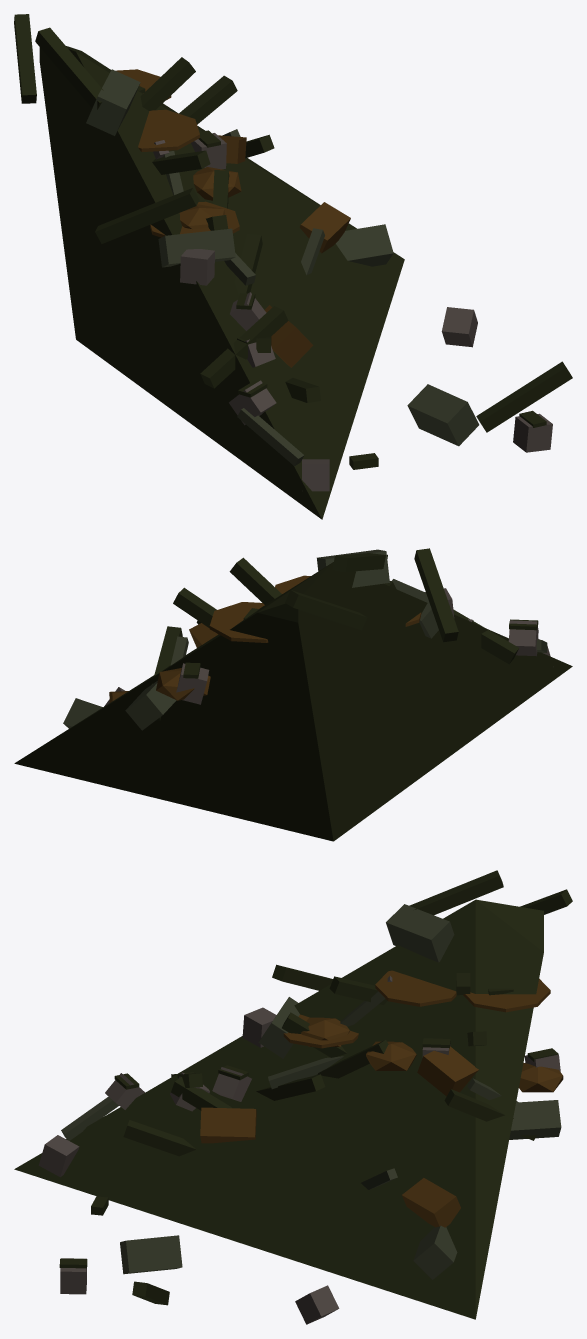
File: SM_PilaZombi_RemateDer_Altura5_s2_LOD0.fbx
The picture shows the model from 3 angles, top to bottom: view 1: azimuth 30°, elevation 25°; view 2: azimuth 150°, elevation 25°; view 3: azimuth 270°, elevation 25°; orthographic projection. The views are drawn at different scales.
Parts seen in each view (by area): view 1: SM_pila_zombis_v14_LOD0; view 2: SM_pila_zombis_v14_LOD0; view 3: SM_pila_zombis_v14_LOD0.
Part boxes in pixels (x1,y1,x2,y2): SM_pila_zombis_v14_LOD0: (14,14,572,519); SM_pila_zombis_v14_LOD0: (14,548,572,841); SM_pila_zombis_v14_LOD0: (14,870,572,1324).
Size of the model in its own units: 3.35 by 2.78 by 4.51.
